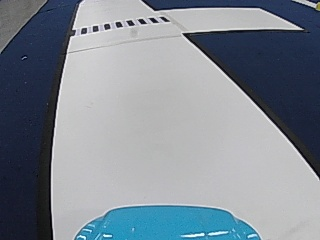CrossWalk: (75, 15, 168, 37)
